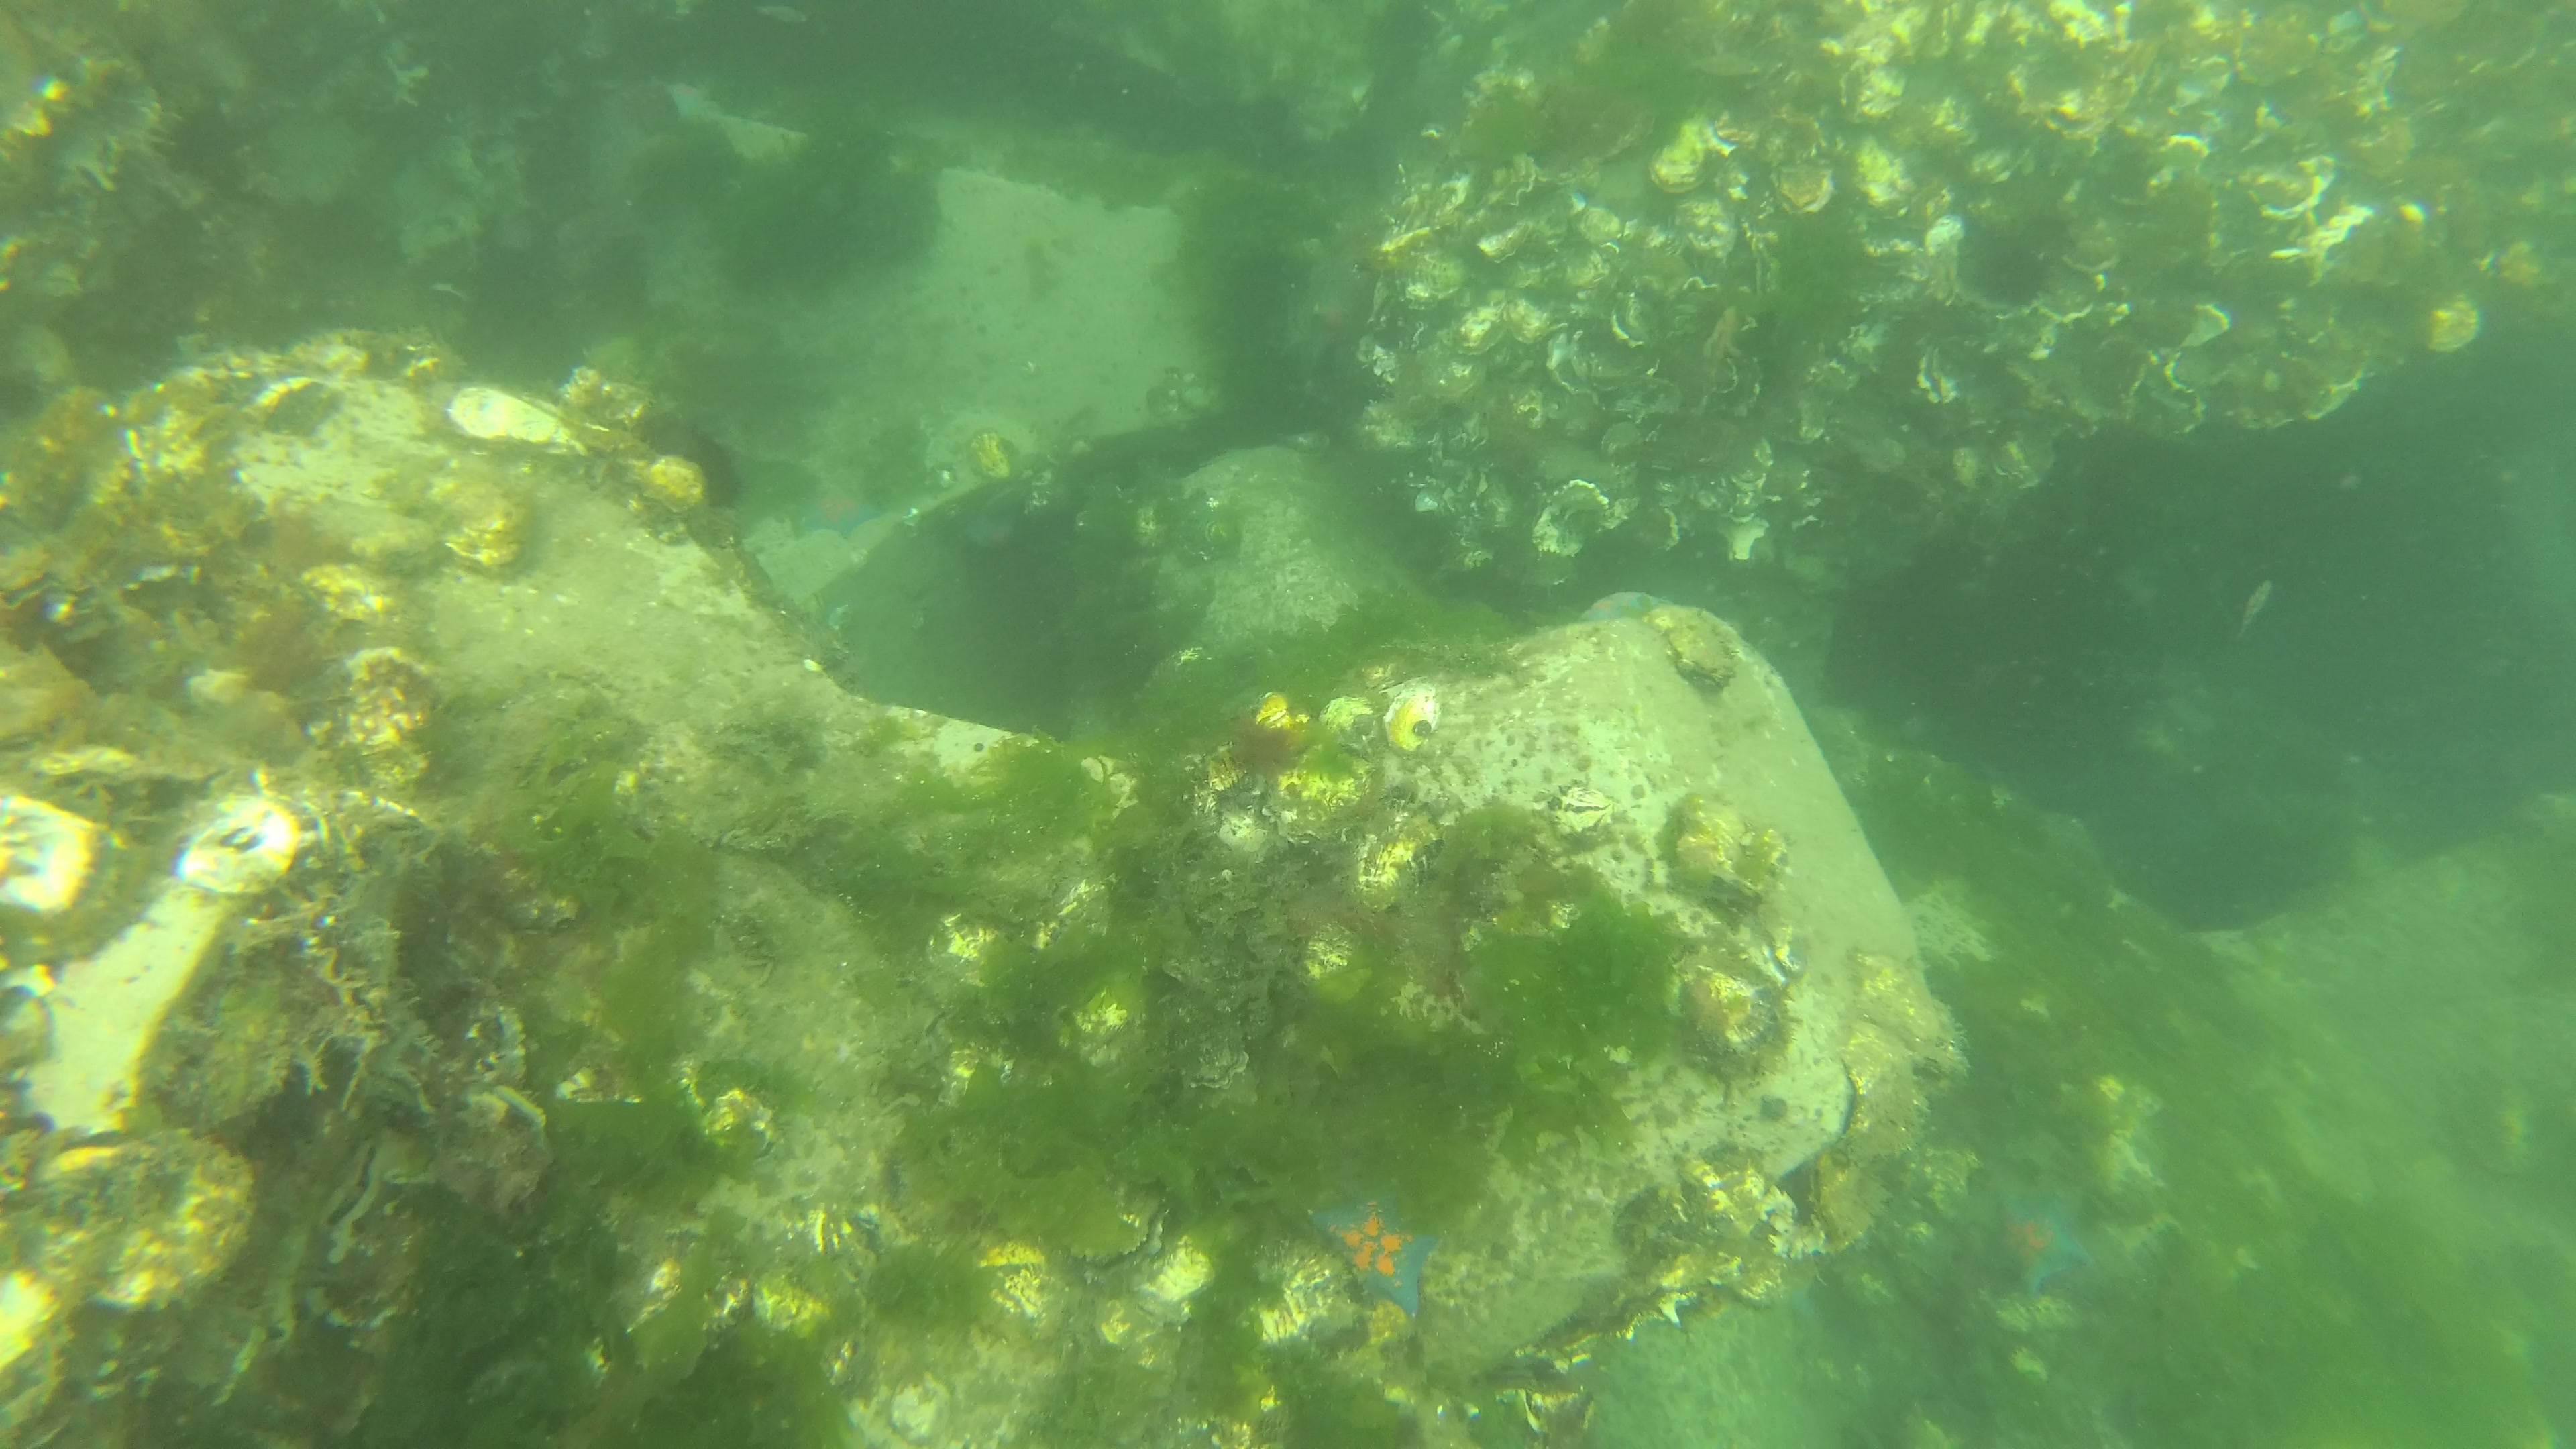echinus: (154, 92, 257, 188), (1966, 216, 2061, 317), (672, 425, 745, 517)
starfish: (1302, 1192, 1444, 1322), (1976, 1185, 2098, 1300), (784, 478, 888, 541), (952, 508, 1024, 564)
